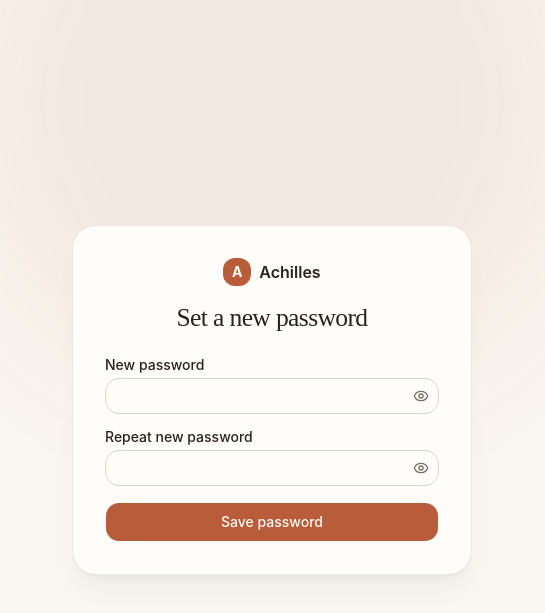
it: ResetPasswordPage › shows the expired state for a dead link (used or timed out)
The width and height of the screenshot is (545, 613).
Type "a-fresh-passphrase-2026" into the password field labelled "New password". click: point(272, 396)
box: [105,378,439,414]
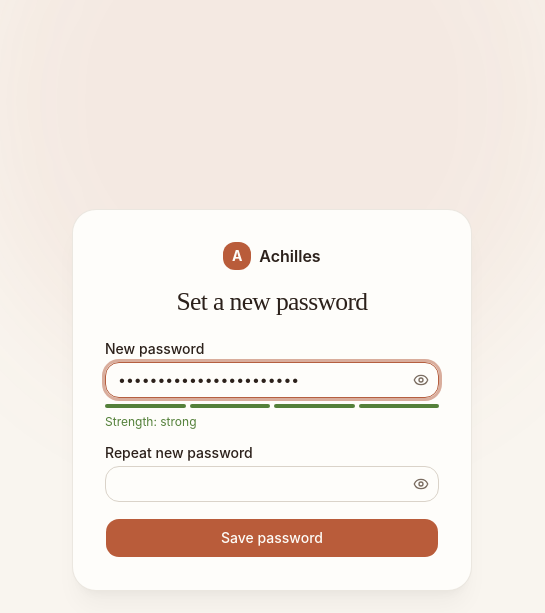
Type "a-fresh-passphrase-2026" into the password field labelled "Repeat new password". click: point(272, 484)
box: [105,466,439,502]
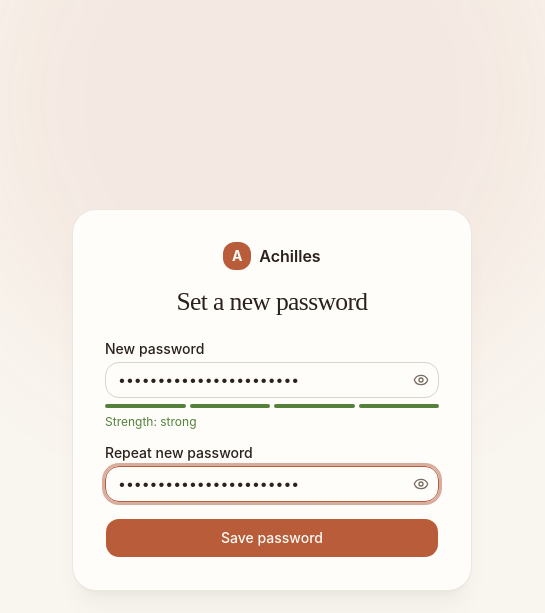
Click the button "Save password". click: point(272, 538)
box: [105,518,439,558]
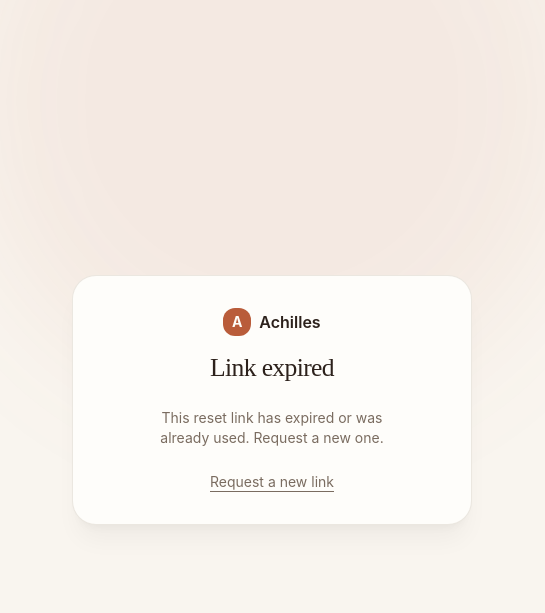
Expected: the heading "Link expired" is shown, [210,352,334,384]
